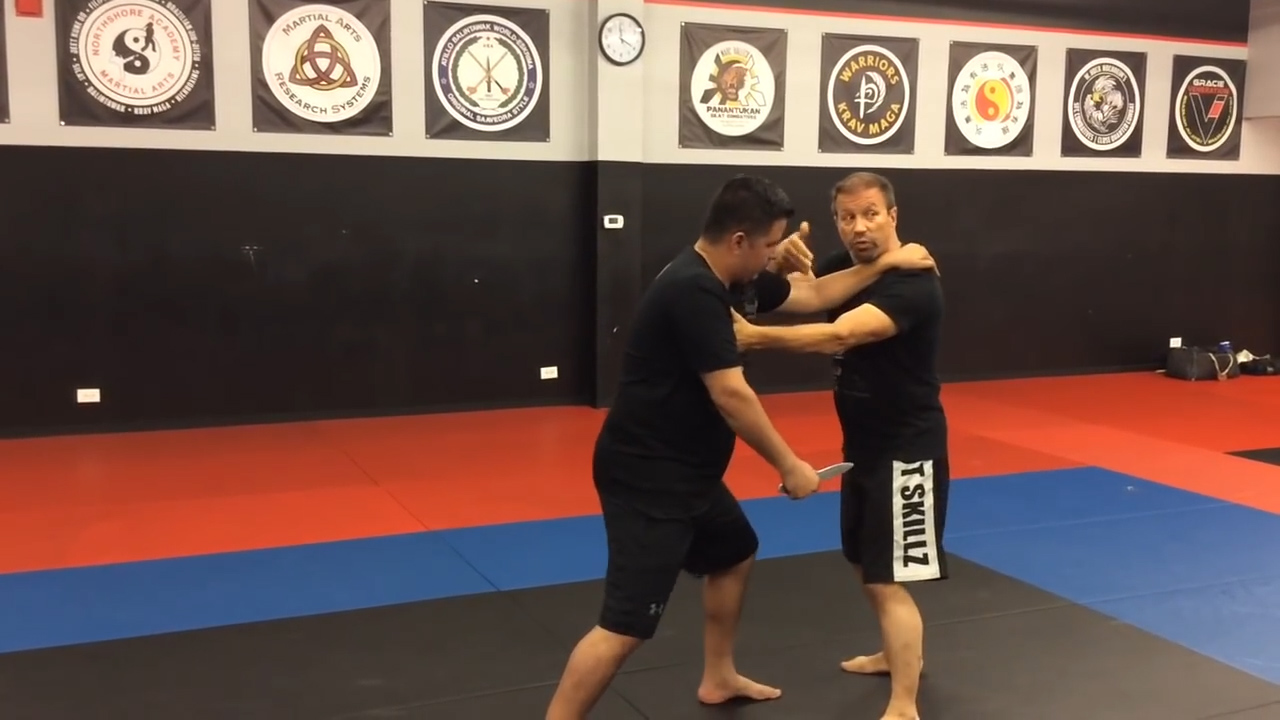knife: (775, 456, 858, 503)
